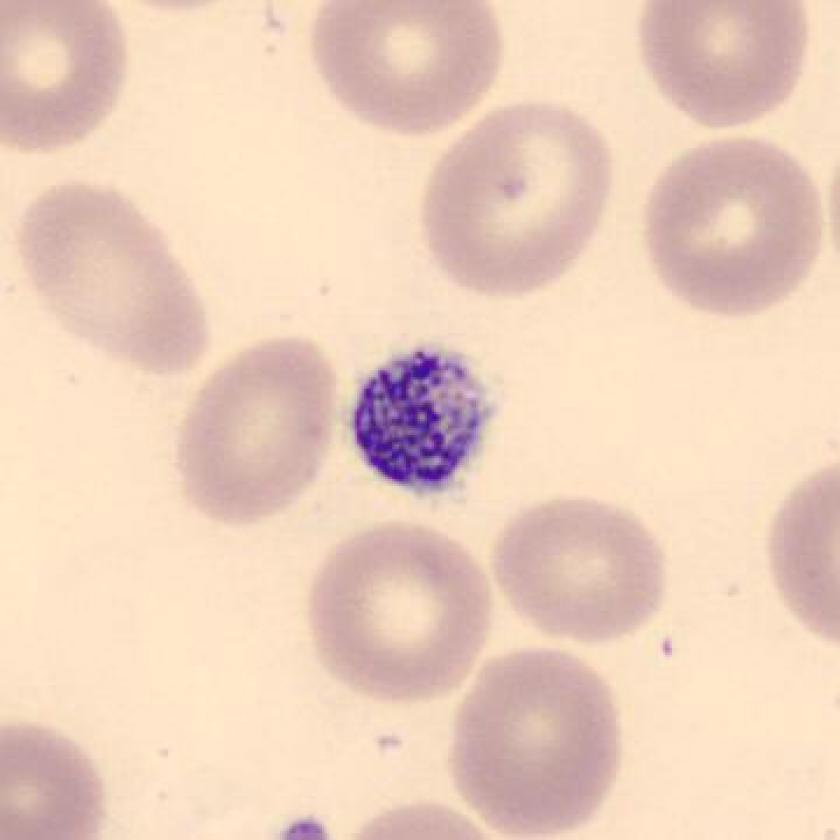platelets: (337, 332, 505, 508)
